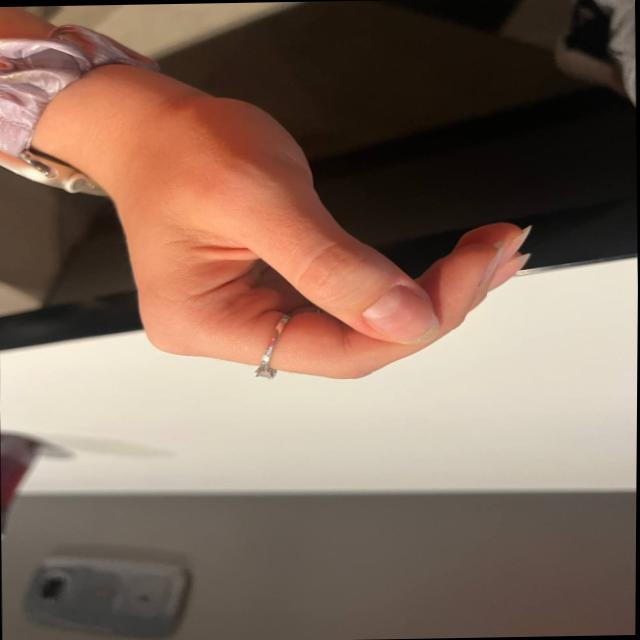f: (89, 78, 558, 380)
